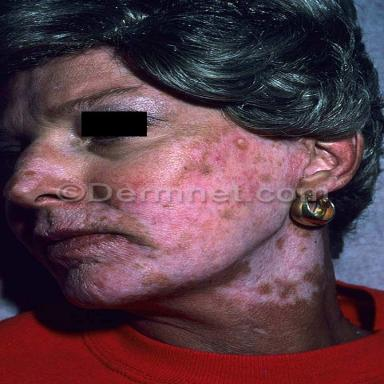Lupus-Erythematosus-Chronicus-Discoides: (73, 200, 326, 309), (176, 126, 308, 187), (3, 153, 73, 200), (34, 202, 124, 236)
